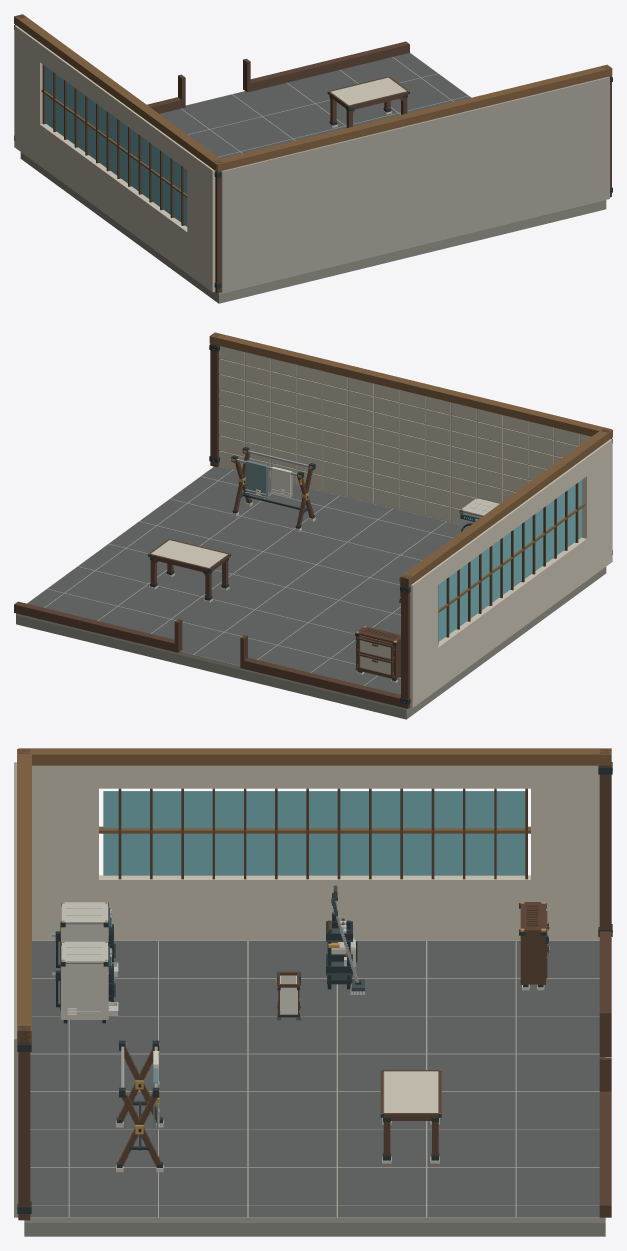
File: visual-far.glb
3 views of the same model, one above another, from view 1: azimuth 30°, elevation 25°; view 2: azimuth 150°, elevation 25°; view 3: azimuth 270°, elevation 25° (orthographic). The views are drawn at different scales.
Visible parts, largest first — view 1: 真实窗洞、木梁与切角房间墙, 分层实心台基与独立石铺面, 餐桌桌架; view 2: 真实窗洞、木梁与切角房间墙, 分层实心台基与独立石铺面, 晾晒架, 餐桌桌架, 玄关鞋柜, 洗衣设备; view 3: 分层实心台基与独立石铺面, 真实窗洞、木梁与切角房间墙, 洗衣设备 (×2), 餐桌桌架, 晾晒架, 玄关鞋柜, 家务清洁工具 · 独立光学用途, 可回收袋筐.
Boxes of the visible parts, x1=… form: 真实窗洞、木梁与切角房间墙: x1=14, y1=14, x2=612, y2=293; 分层实心台基与独立石铺面: x1=20, y1=53, x2=606, y2=303; 餐桌桌架: x1=327, y1=76, x2=409, y2=127; 真实窗洞、木梁与切角房间墙: x1=14, y1=332, x2=612, y2=708; 分层实心台基与独立石铺面: x1=16, y1=466, x2=606, y2=719; 晾晒架: x1=231, y1=447, x2=315, y2=531; 餐桌桌架: x1=148, y1=539, x2=230, y2=602; 玄关鞋柜: x1=355, y1=626, x2=400, y2=683; 洗衣设备: x1=459, y1=498, x2=499, y2=532; 分层实心台基与独立石铺面: x1=24, y1=940, x2=605, y2=1236; 真实窗洞、木梁与切角房间墙: x1=14, y1=748, x2=612, y2=1220; 洗衣设备 (×2): x1=52, y1=902, x2=118, y2=1023; 餐桌桌架: x1=380, y1=1070, x2=441, y2=1163; 晾晒架: x1=116, y1=1040, x2=163, y2=1172; 玄关鞋柜: x1=519, y1=902, x2=549, y2=990; 家务清洁工具 · 独立光学用途: x1=326, y1=885, x2=364, y2=994; 可回收袋筐: x1=275, y1=971, x2=300, y2=1020.
Bounding box in the file's own units: 9.04 × 3.08 × 8.04.
Materials: 32 (32 with a texture image).
